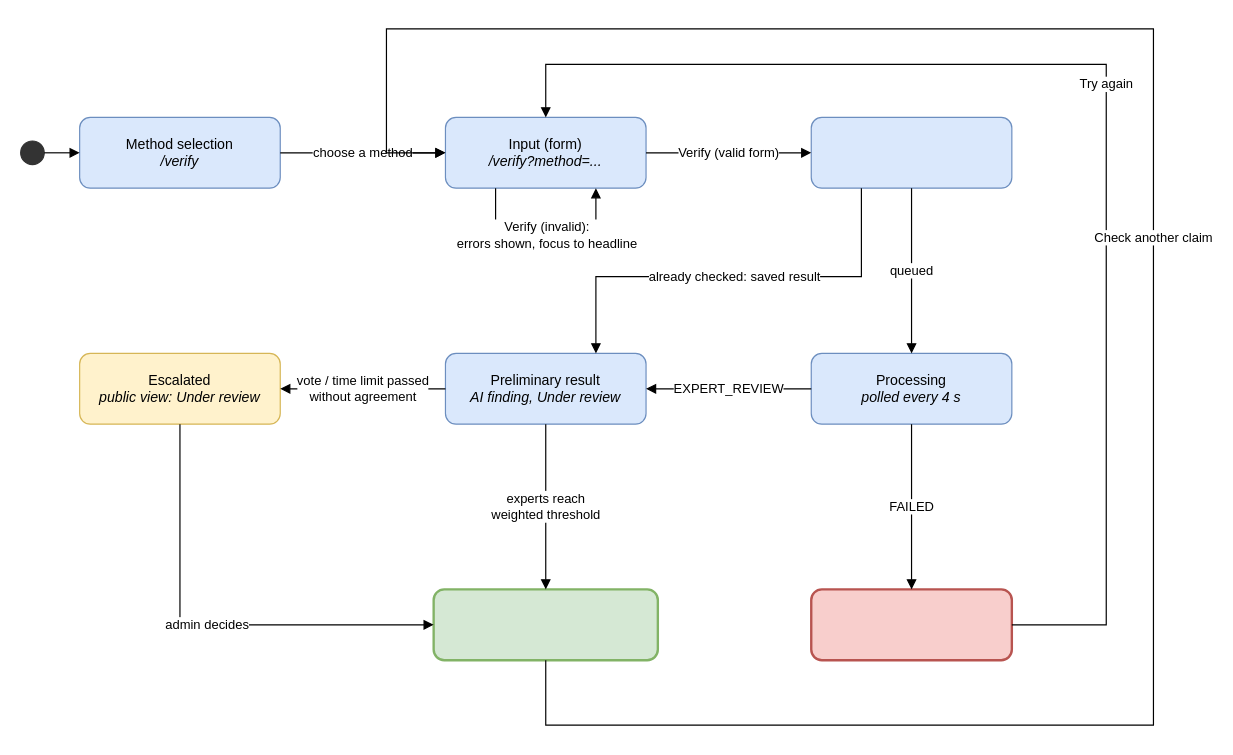
Some shapes in this 1233 by 755 pixel diagram are drawn without their labels. The centre of each missing label's shape, as x and y in pixels:
"Check incomplete input kept, not a verdict" belongs at point 910,624.
"Final result Real / Fake / Misleading / Altered" belongs at point 545,624.
"Submitting fields locked" belongs at point 911,152.
